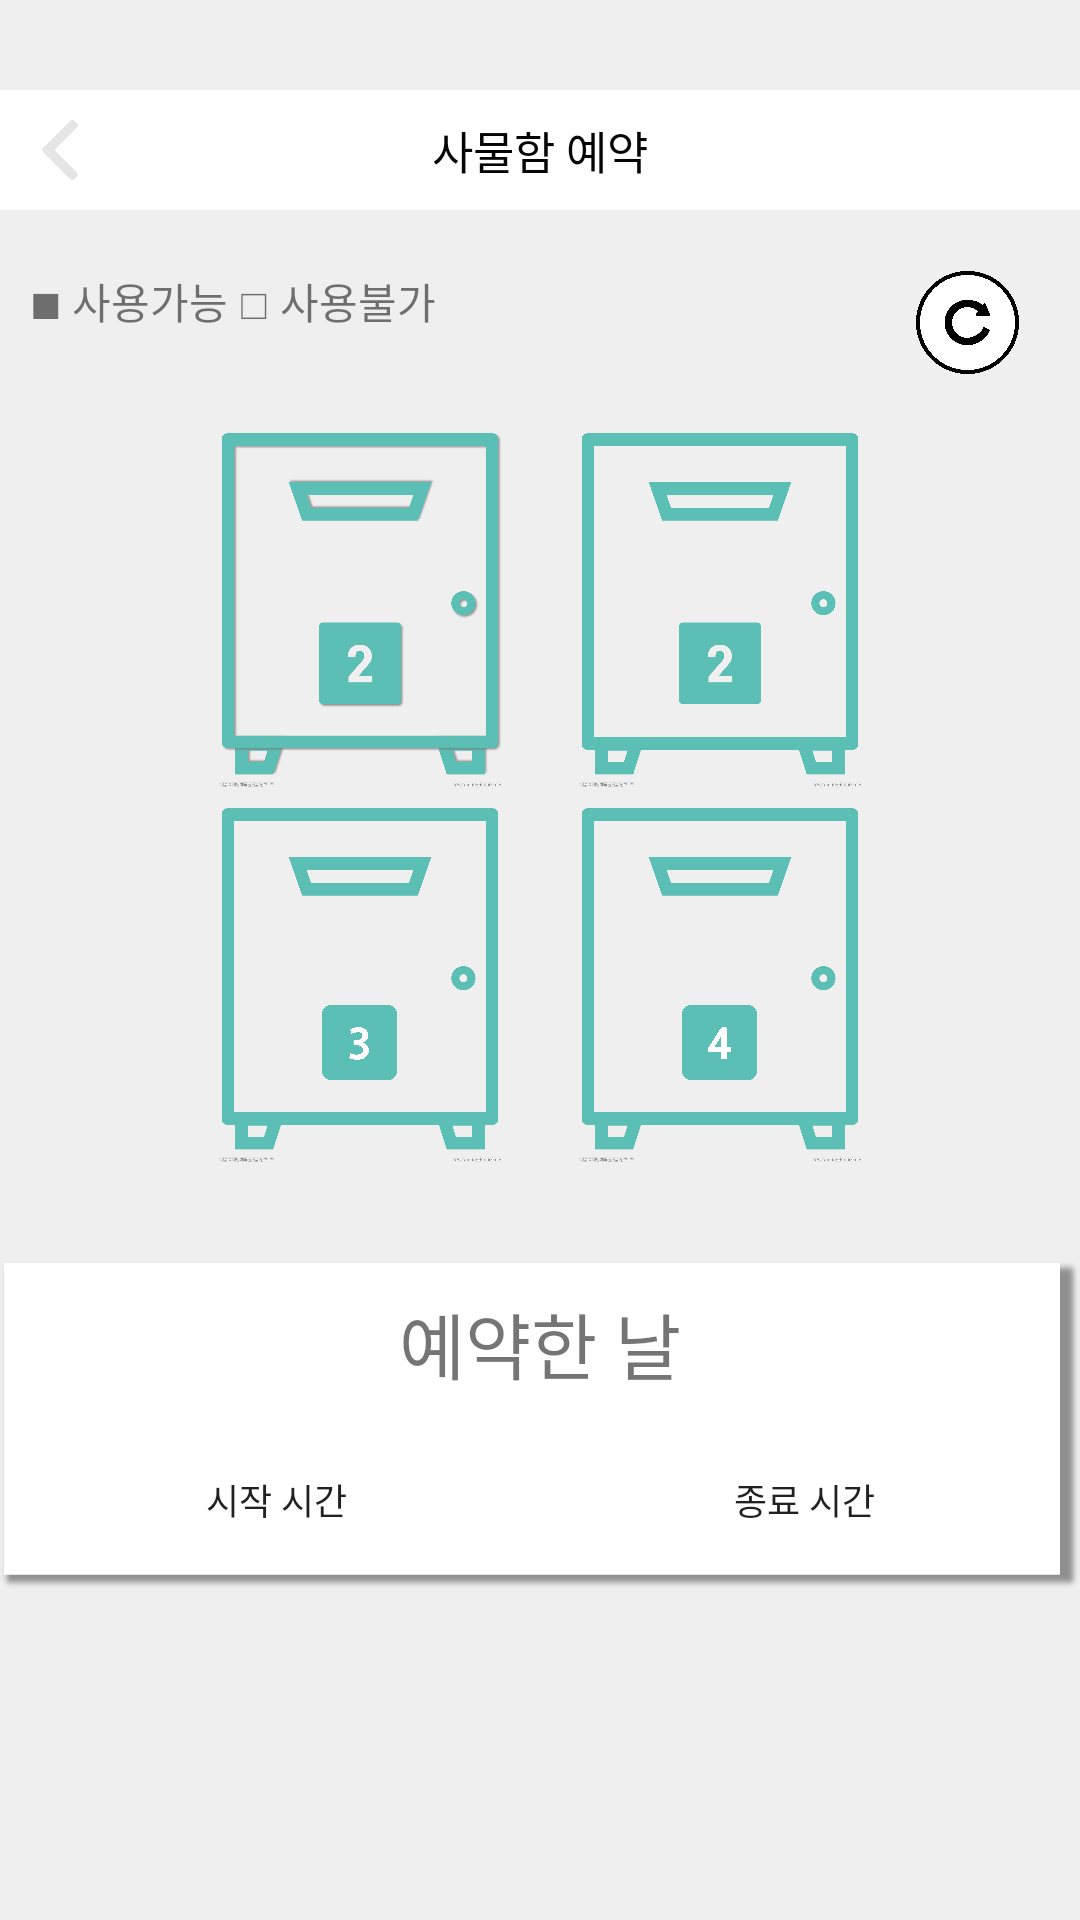

Where icons sit on this 1080px x 1920px app screen, as [x1,y1,x2,y2]:
left arrow: [43,120,77,180]
reservation refresh: [916,271,1019,374]
